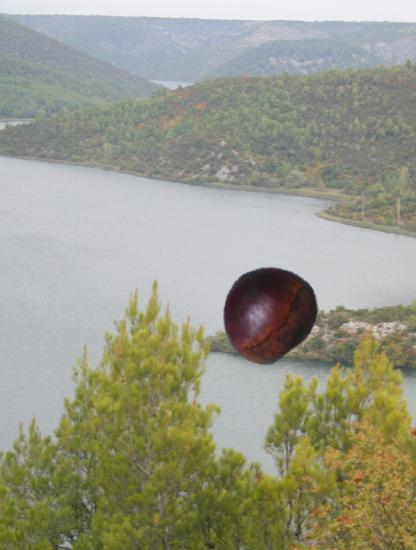Chestnut: (219, 262, 319, 362)
